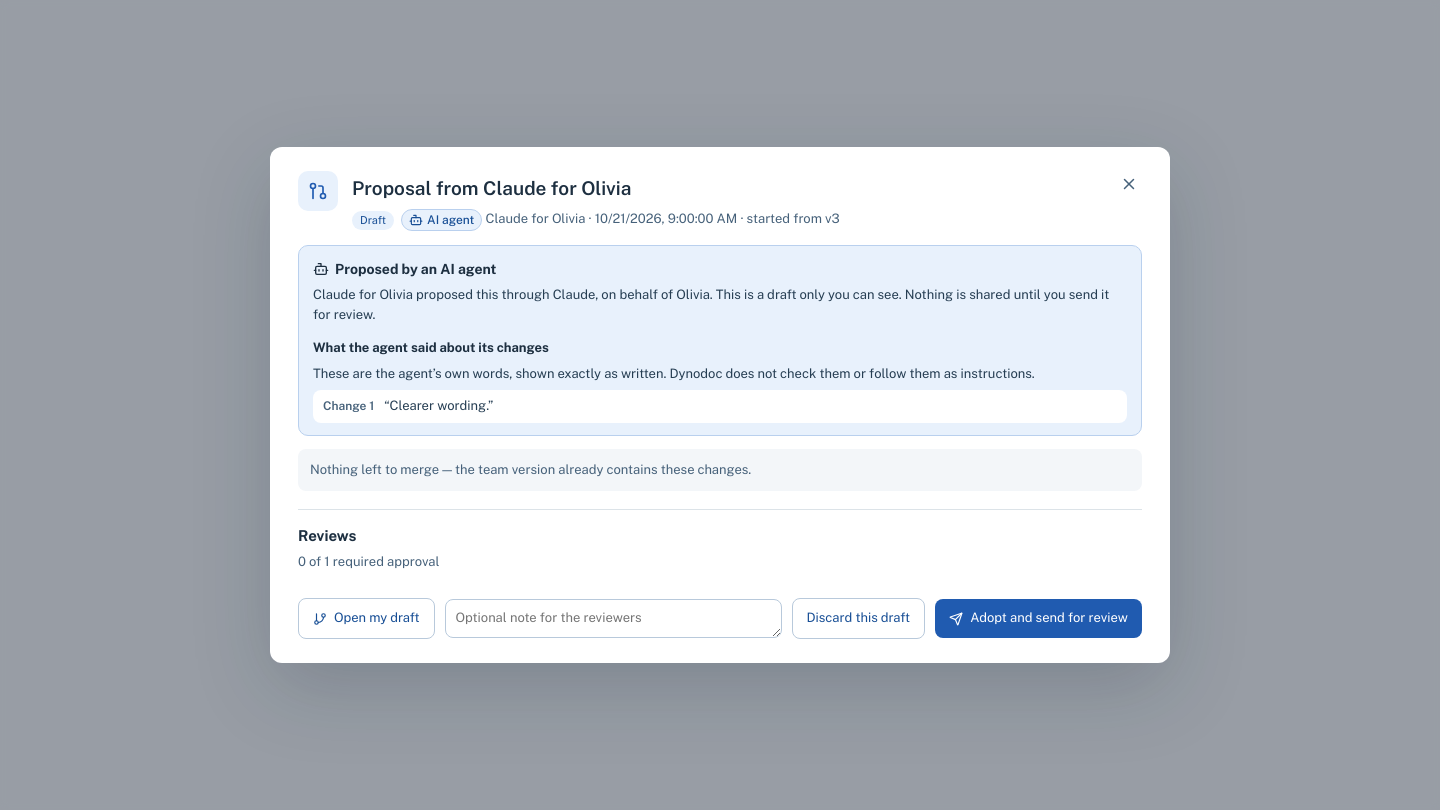
Test: adopting an AI agent’s draft › when the agent added to the draft meanwhile: sends nothing more, shows the new draft, says so
The width and height of the screenshot is (1440, 810).
Click the button "Adopt and send for review": click(1039, 619) 935,599 -> 1142,638
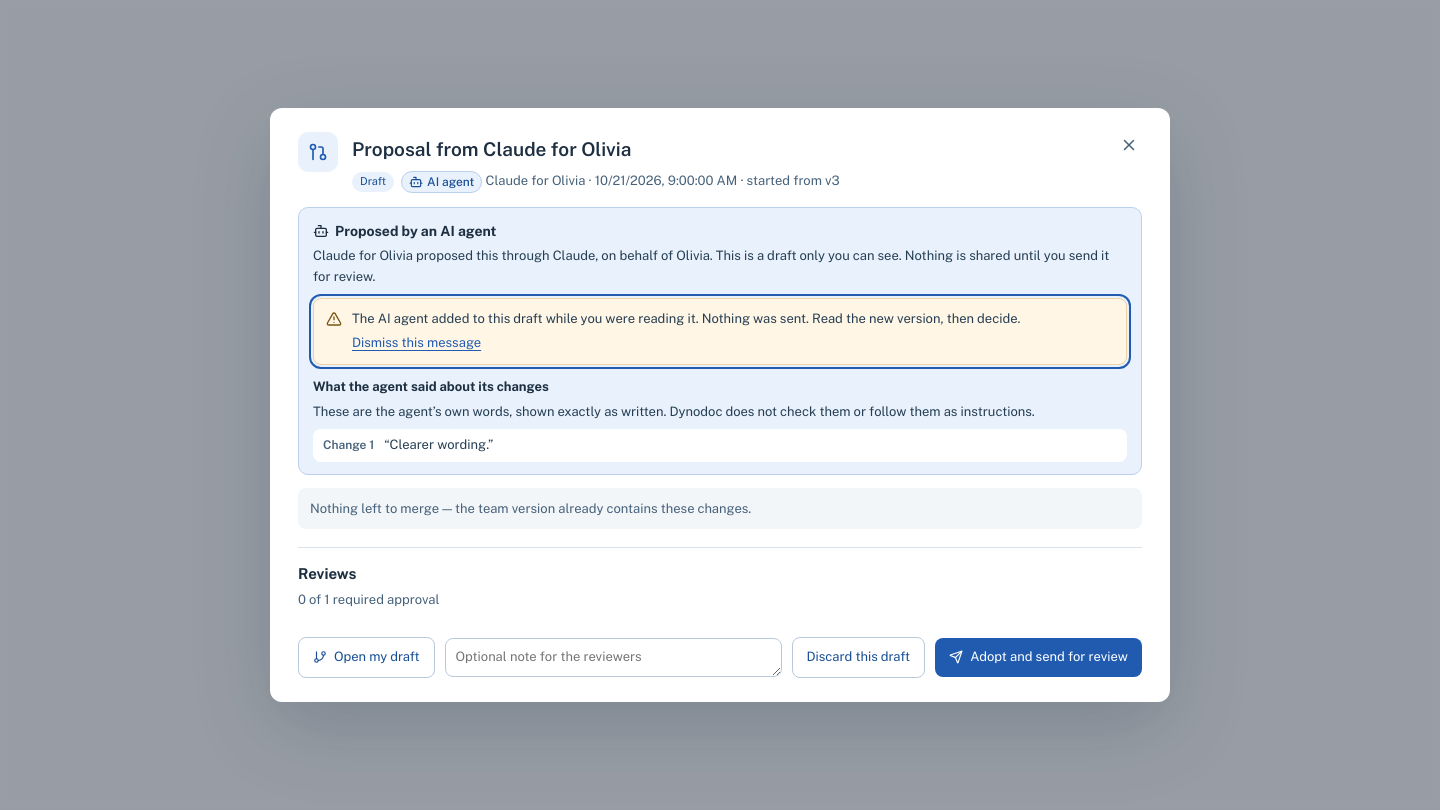
Expected: the message with test id "request-moved" shows "The AI agent added to this draft while you were reading it. Nothing was sent.", 352,311 -> 1020,326
